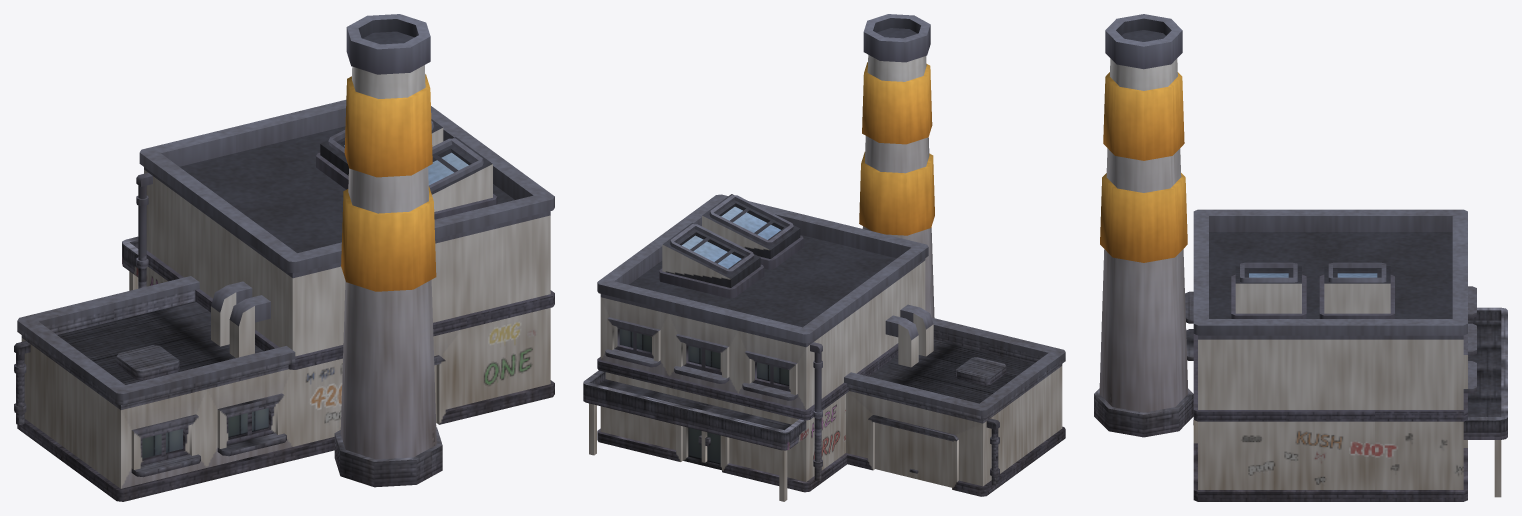
Rendered from building-l-white-scuffed.glb.
3 views of the same model, side by side, from view 1: azimuth 30°, elevation 25°; view 2: azimuth 150°, elevation 25°; view 3: azimuth 270°, elevation 25° (orthographic). The views are drawn at different scales.
Visible parts, largest first — view 1: building-l; view 2: building-l; view 3: building-l.
Boxes of the visible parts, x1=… form: building-l: x1=14, y1=14, x2=554, y2=501; building-l: x1=583, y1=14, x2=1065, y2=501; building-l: x1=1094, y1=14, x2=1507, y2=501.
Size of the model in its own units: 2.08 by 1.92 by 1.87.
1 material, 1 textured.
